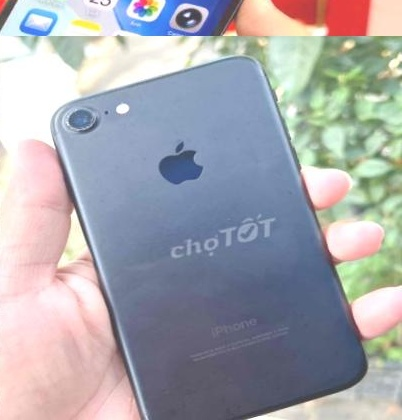scratch: (132, 55, 245, 86), (60, 101, 107, 139), (147, 409, 223, 420), (277, 171, 297, 198), (137, 151, 150, 161)
